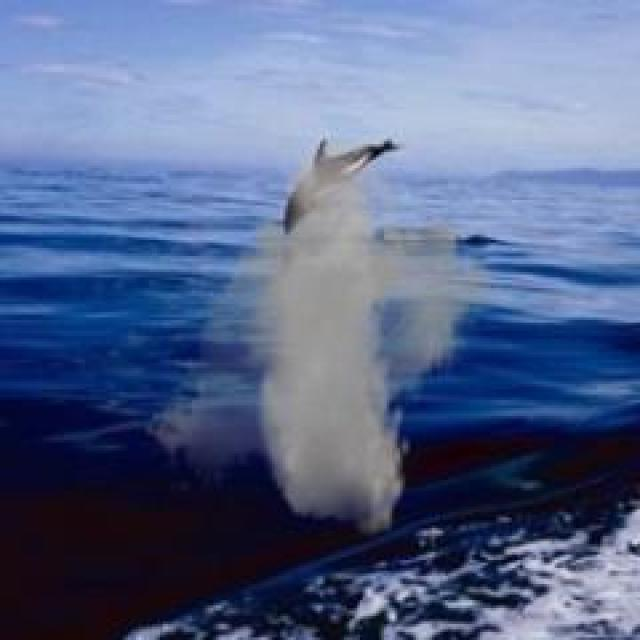smoke: (142, 138, 502, 538)
